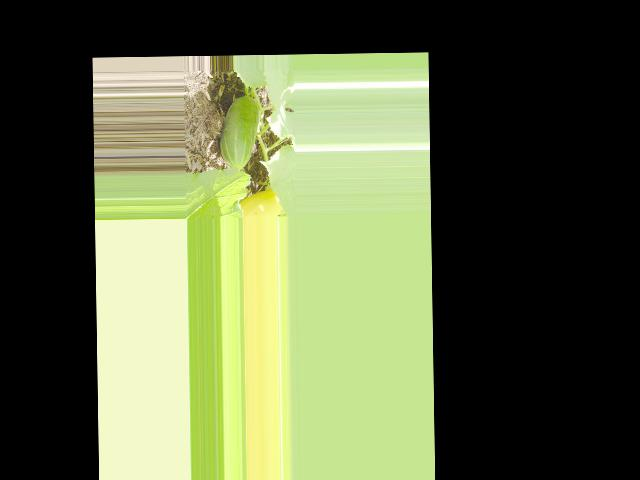cucumber: (218, 95, 260, 170)
